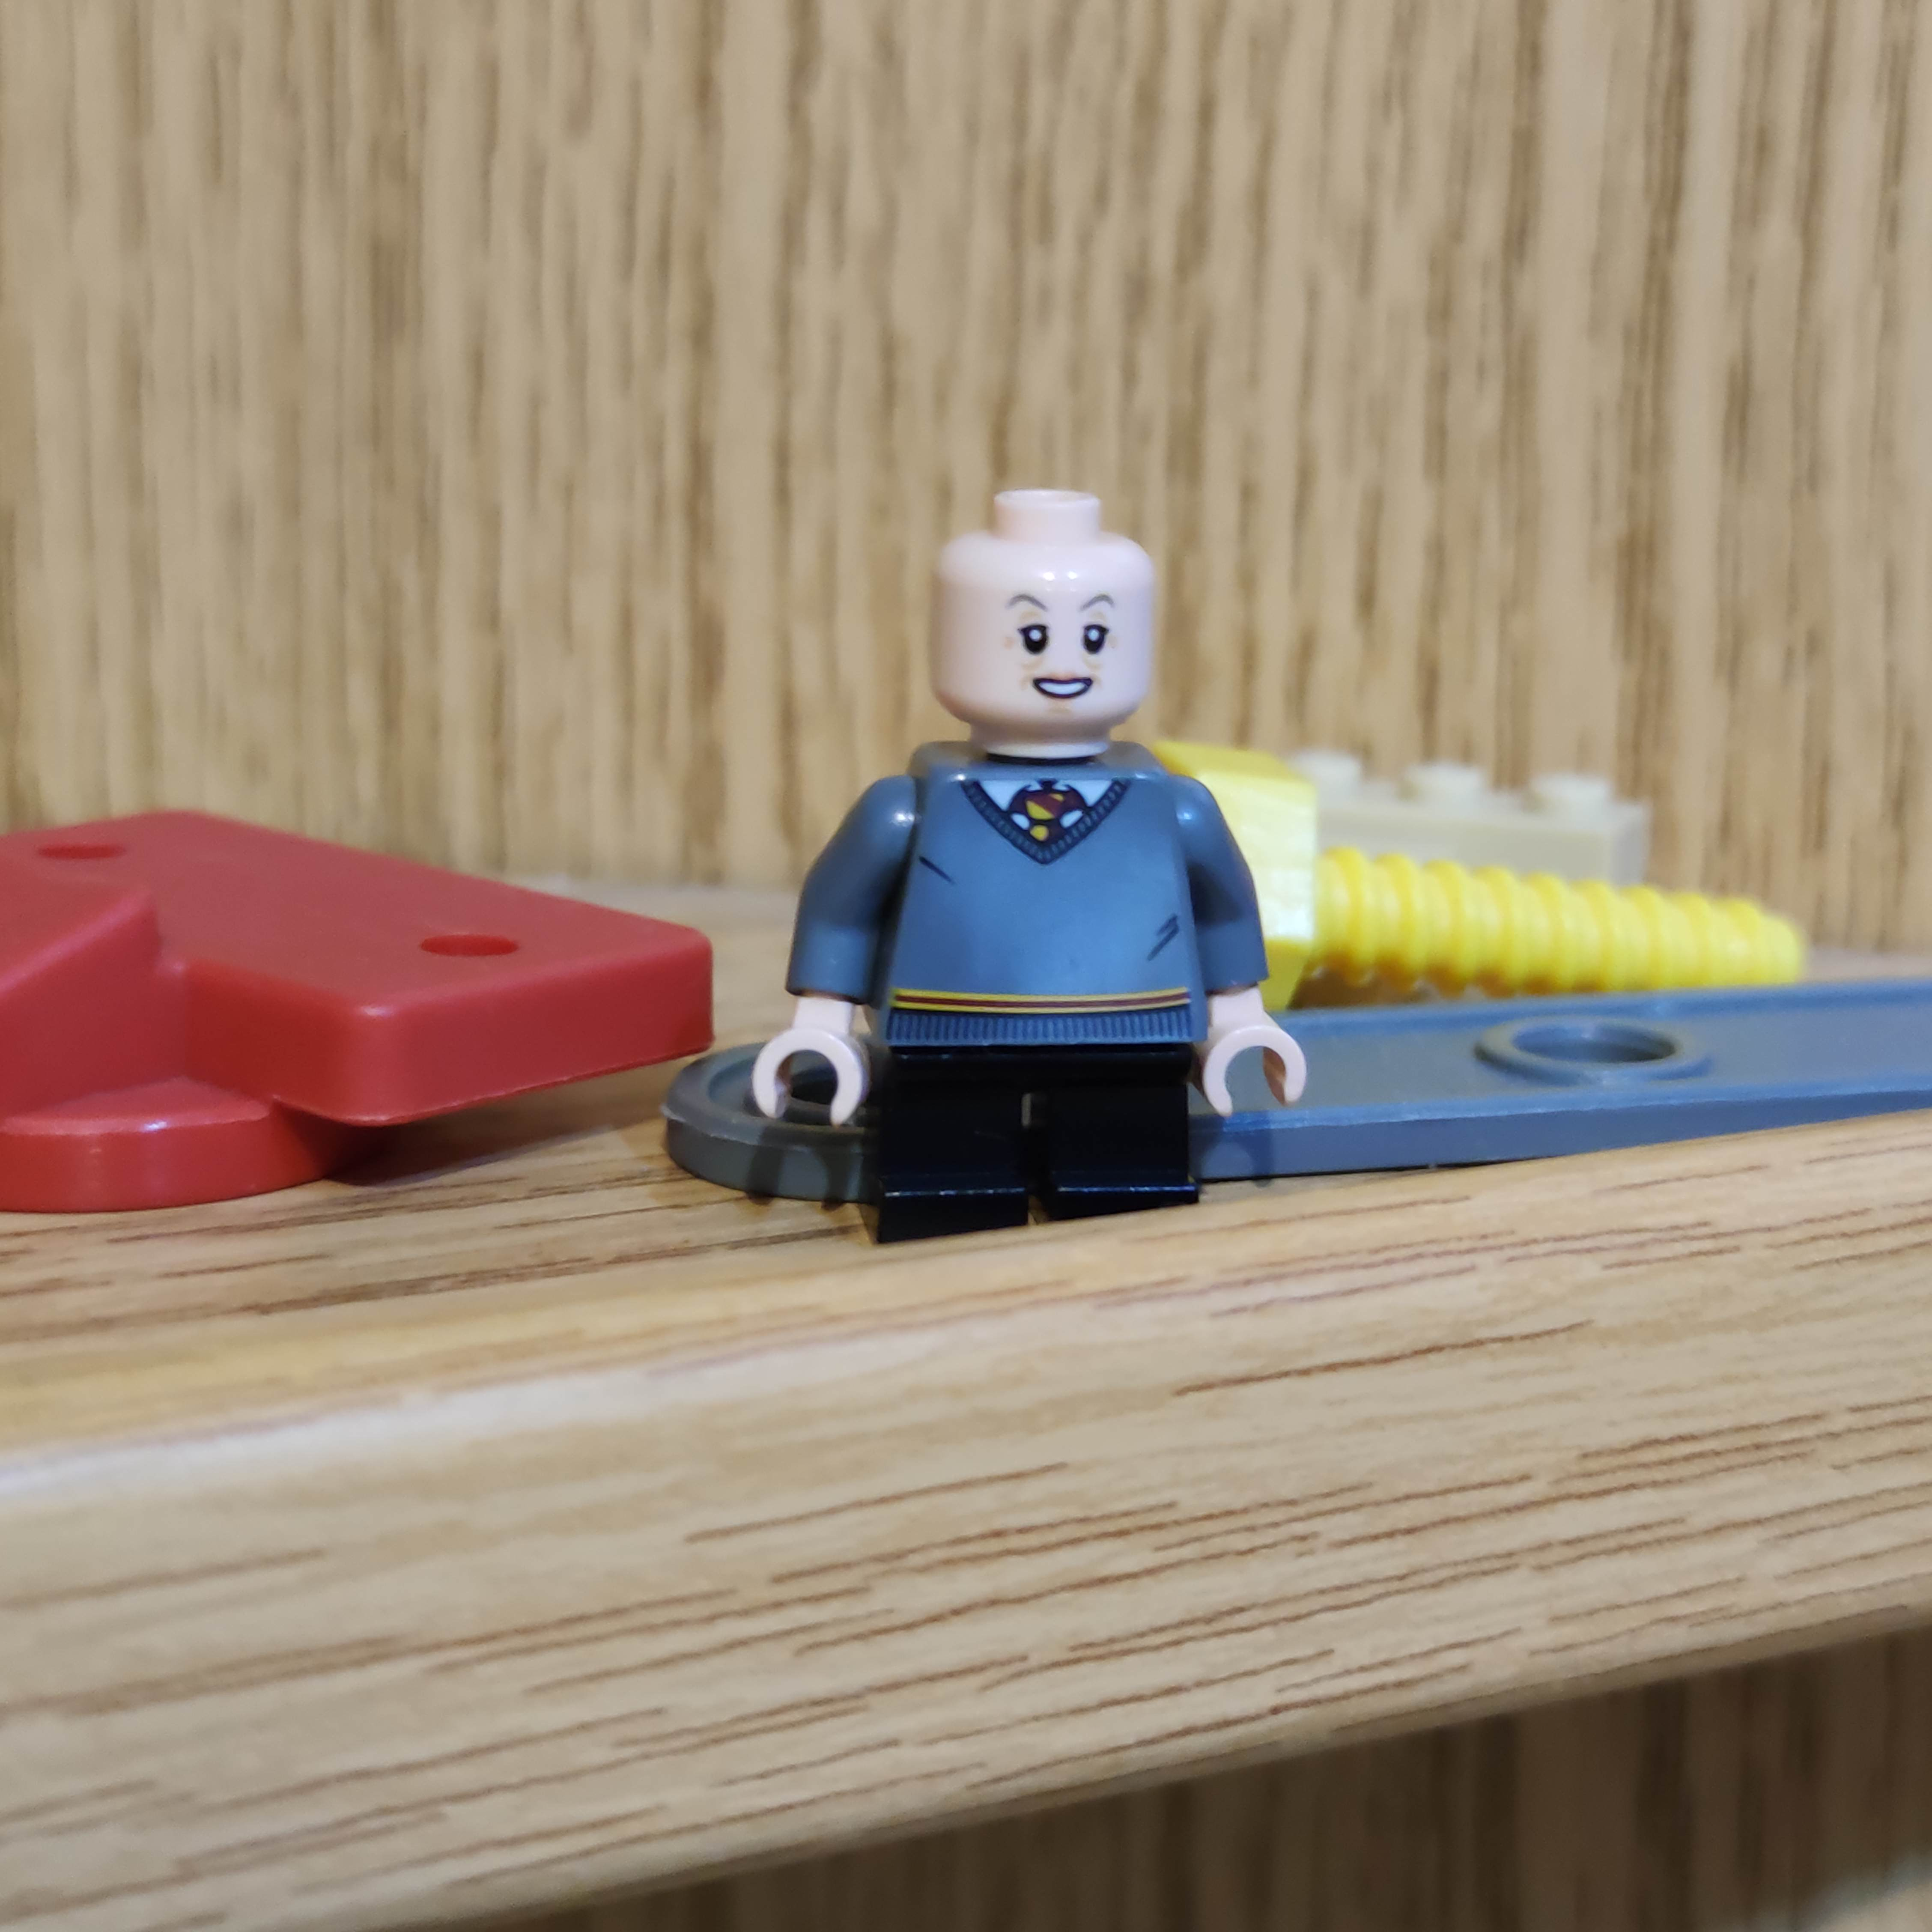lego: (752, 472, 1329, 1246)
